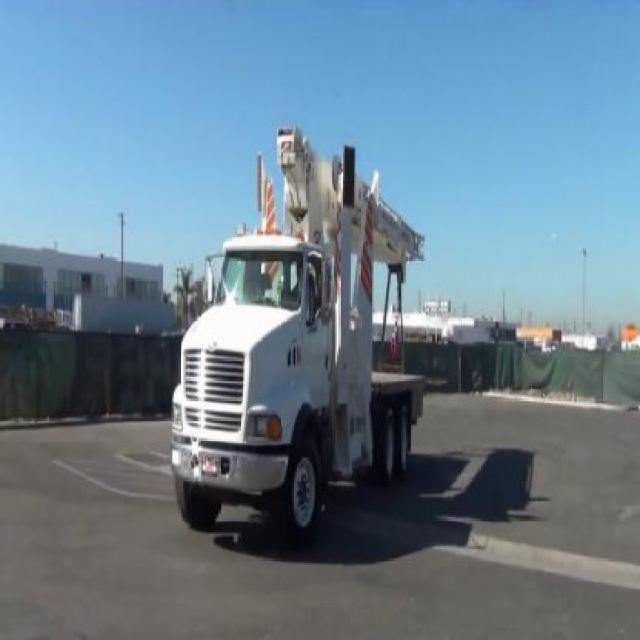Mobile Crane: (162, 126, 441, 549)
